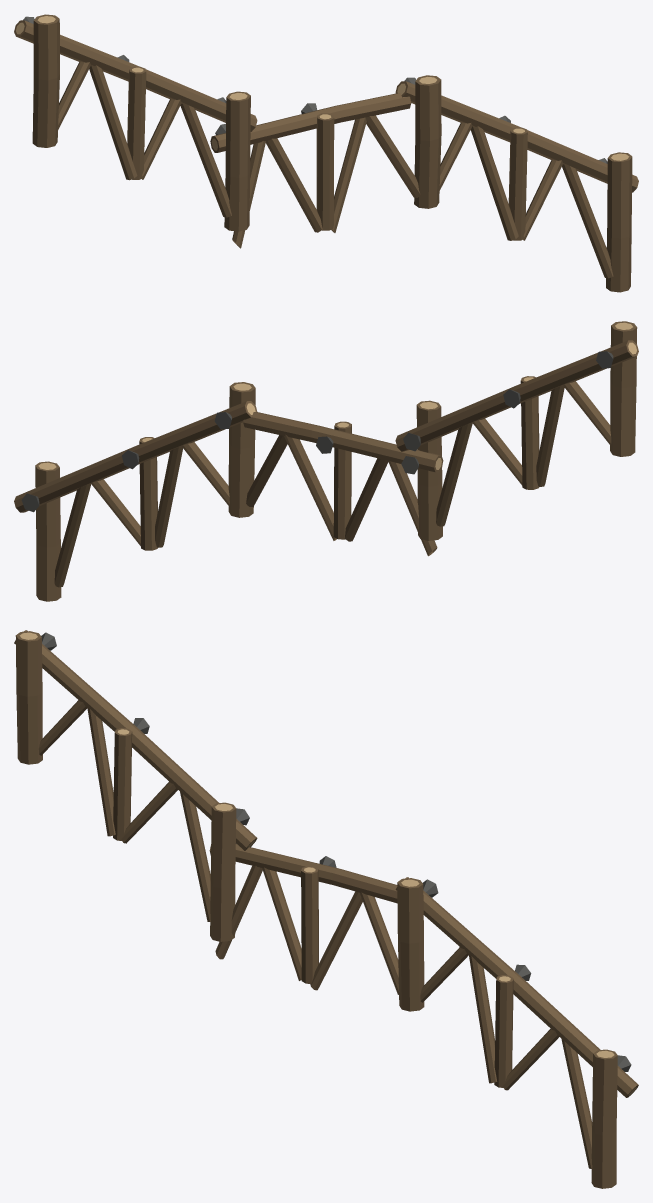
Rendered from rpgpp_ag_wall_platform_stairs_02c_4m_handrail_02.fbx.
3 renders of one model, top to bottom at view 1: azimuth 30°, elevation 25°; view 2: azimuth 150°, elevation 25°; view 3: azimuth 330°, elevation 25°, orthographic.
Visible parts, largest first — view 1: rpgpp_ag_wall_platform_stairs_02c_4m_handrail_02; view 2: rpgpp_ag_wall_platform_stairs_02c_4m_handrail_02; view 3: rpgpp_ag_wall_platform_stairs_02c_4m_handrail_02.
Boxes of the visible parts, left/top/right/bottom form: rpgpp_ag_wall_platform_stairs_02c_4m_handrail_02: left=14, top=14, right=638, bottom=292; rpgpp_ag_wall_platform_stairs_02c_4m_handrail_02: left=14, top=321, right=638, bottom=601; rpgpp_ag_wall_platform_stairs_02c_4m_handrail_02: left=14, top=630, right=638, bottom=1188.
Bounding box in the file's own units: 8.37 × 5.26 × 0.6083.
